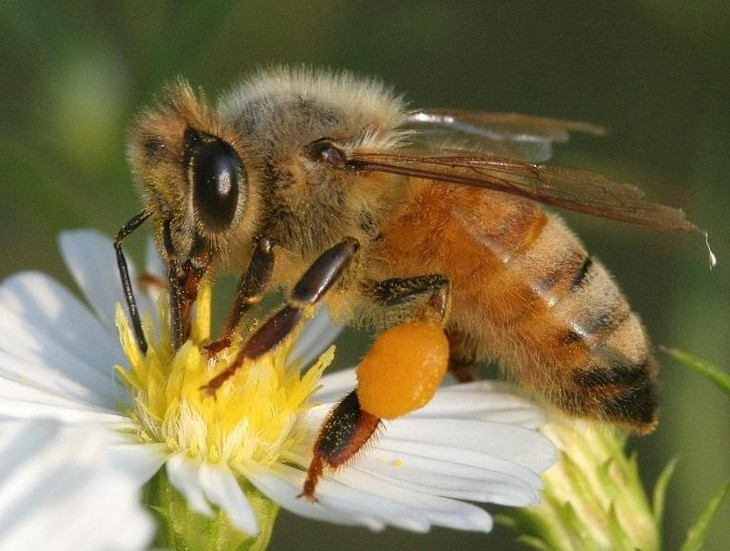bee: (123, 68, 707, 441)
